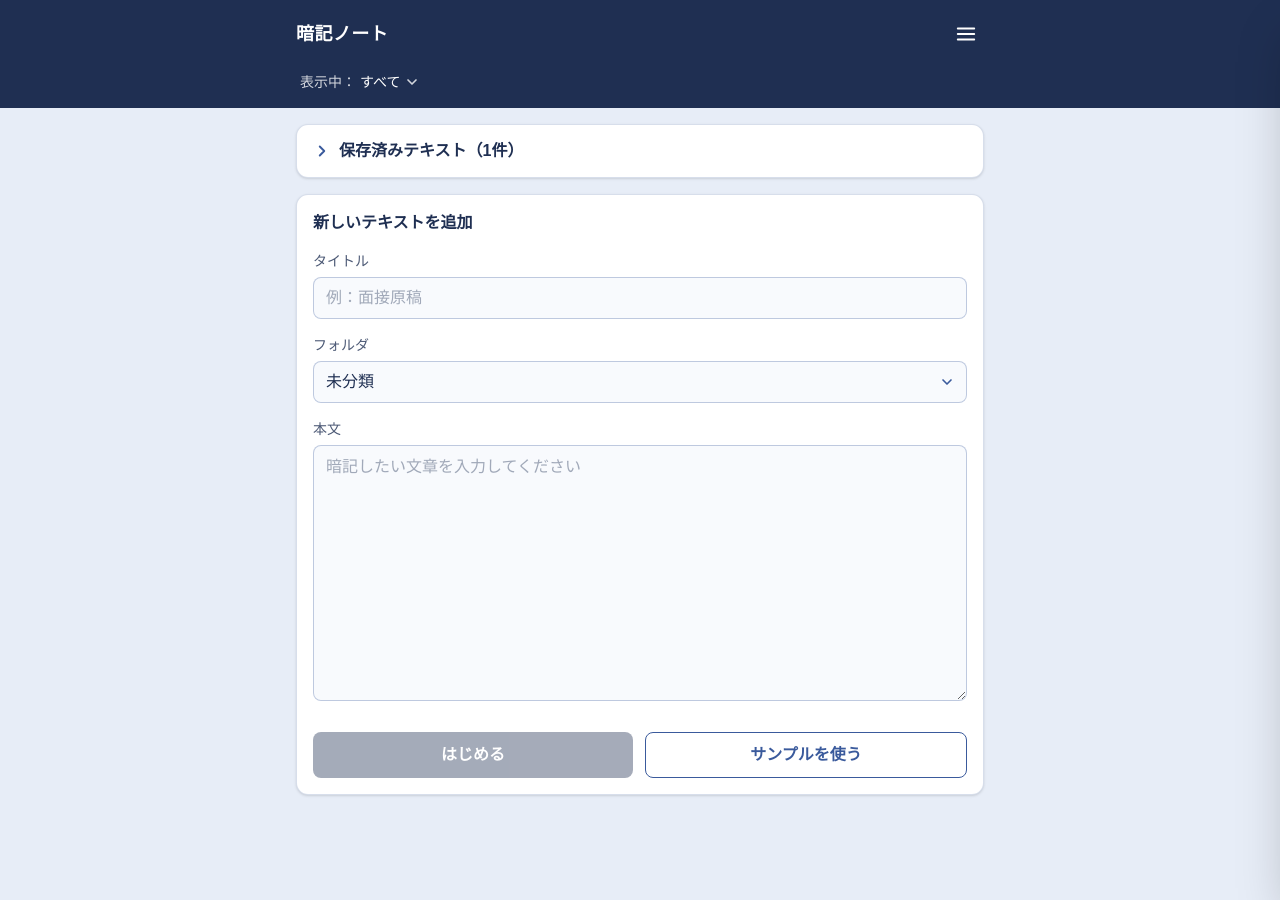
Test case: HomeScreen › 削除ボタンは1回目のタップでは削除せず、確認状態になる
Click the button "保存済みテキスト（1件）".
click(411, 150)  # box [297, 125, 983, 177]
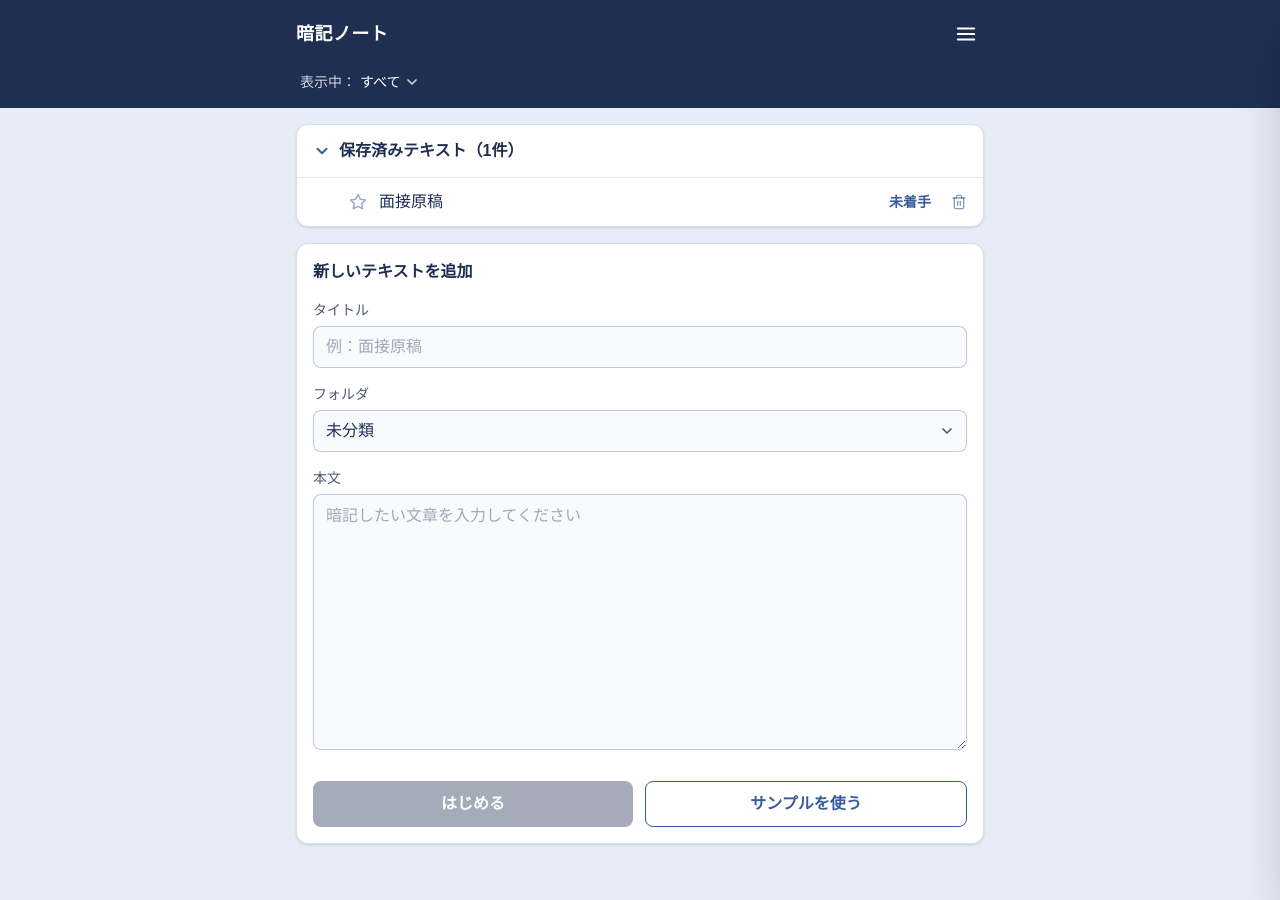
Click the button named "面接原稿を削除".
click(959, 202)  # box [943, 188, 975, 216]
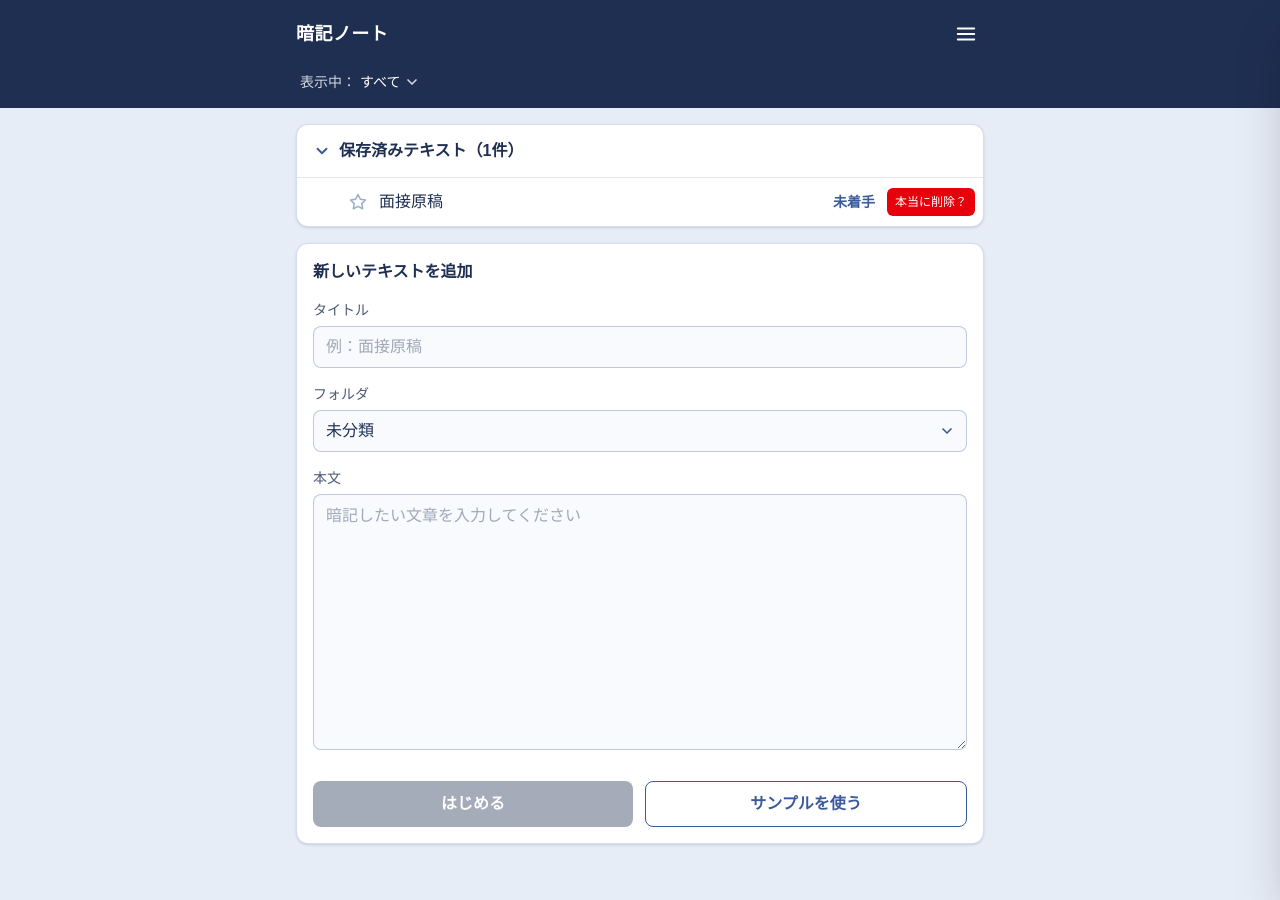
Expected: the button with aria-label "面接原稿を本当に削除する" is shown, [887, 188, 975, 216]
